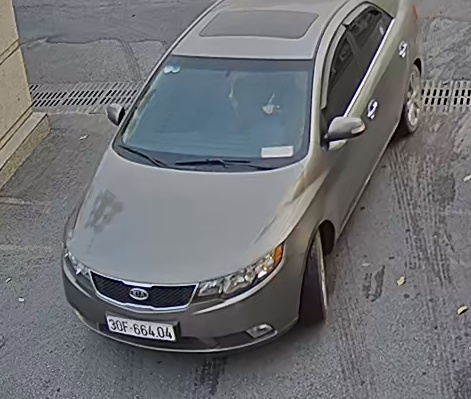vehicle plate: (103, 309, 179, 344)
